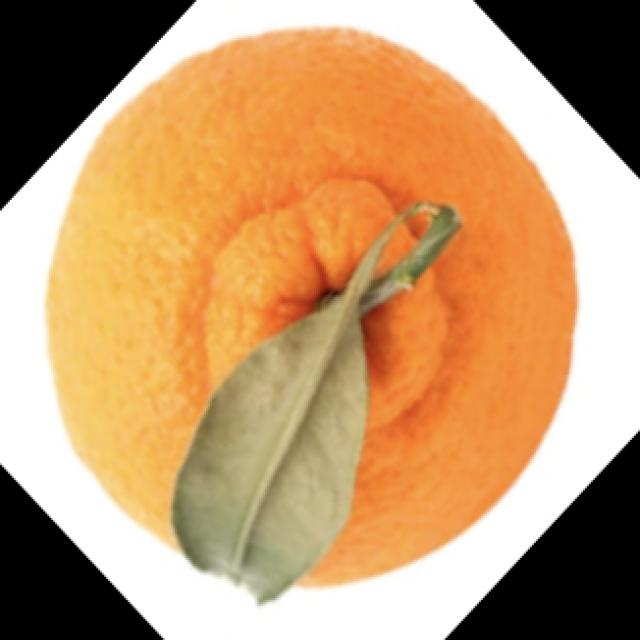fresh: (36, 34, 578, 608)
